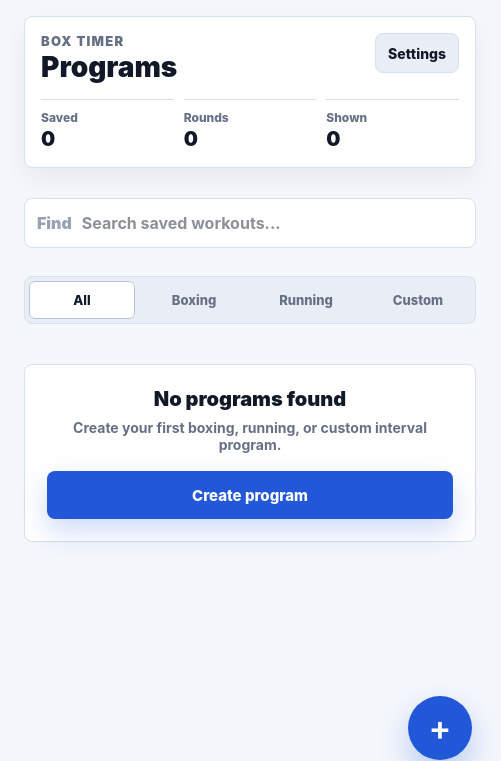
it: App navigation flow › navigates to settings and back
Expected: the text "No programs found" is shown, 154,387 -> 346,411
Click the button "Settings". click: (417, 53)
box: 375,33 -> 459,73
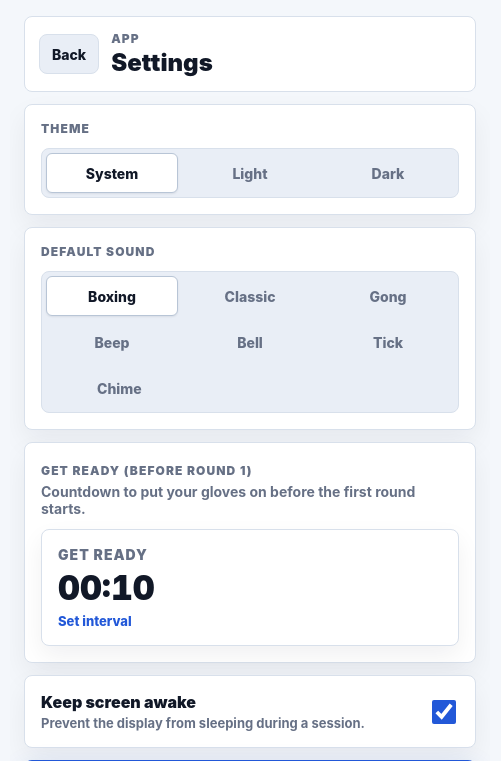
Expected: the heading "Settings" is shown, 111,48 -> 213,77
Click the button "Back". click: (69, 54)
box: 39,34 -> 99,74
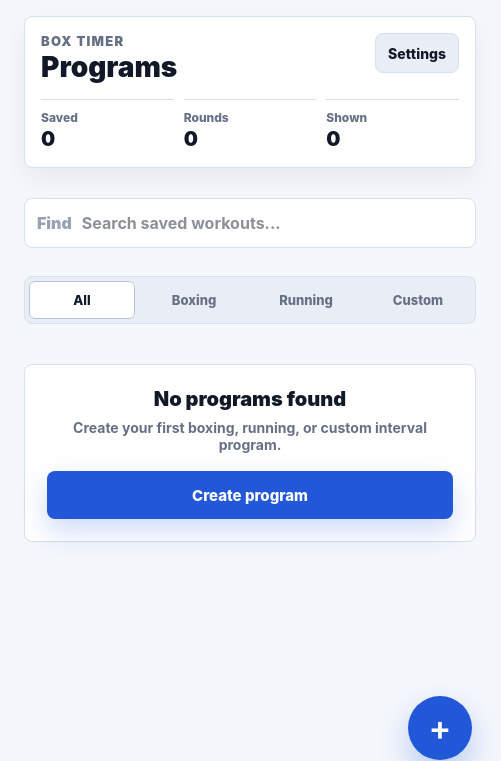
Expected: the heading "Programs" is shown, 41,53 -> 177,81
